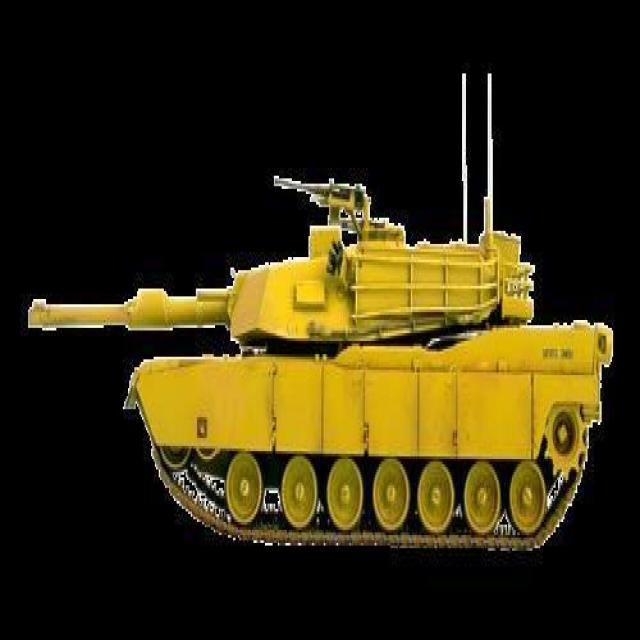Tanks: (21, 109, 616, 586)
